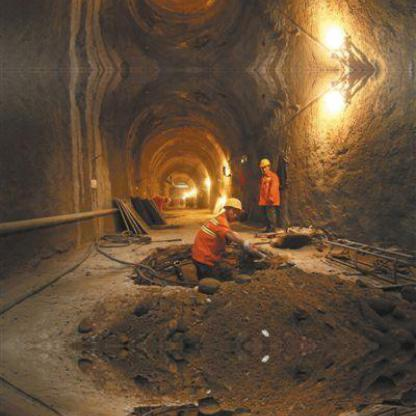helmet: (220, 195, 244, 215), (256, 152, 274, 172)
